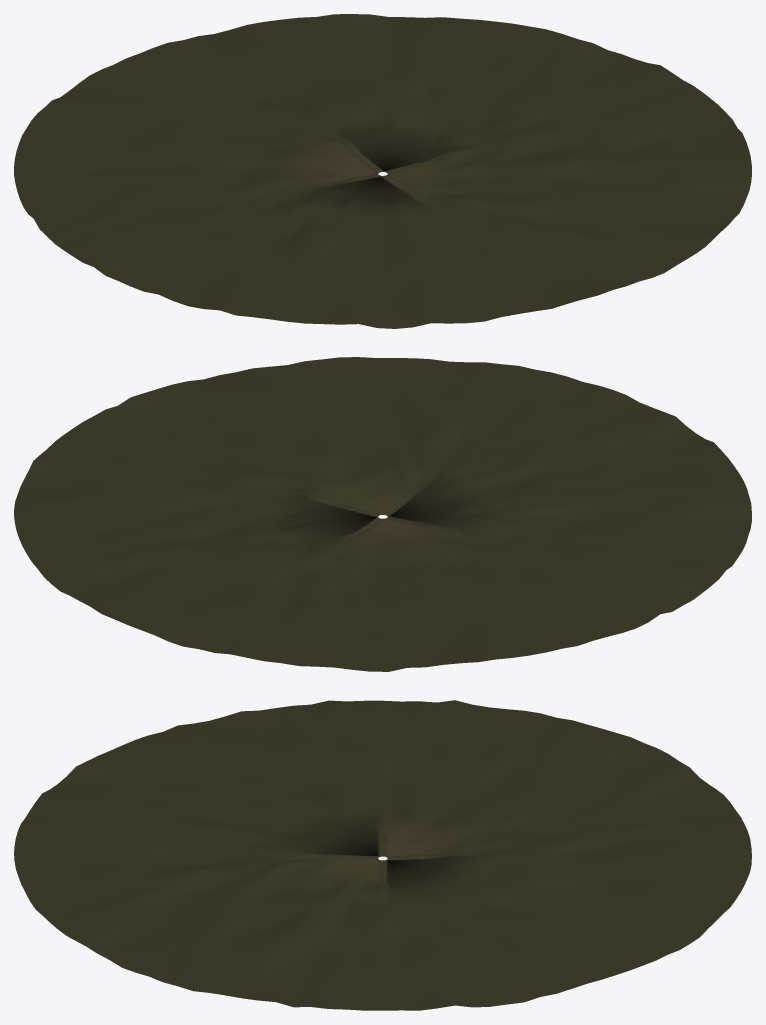
File: ksanthos-nereidler-aniti-skirt.glb
The picture shows the model from 3 angles, top to bottom: view 1: azimuth 30°, elevation 25°; view 2: azimuth 150°, elevation 25°; view 3: azimuth 270°, elevation 25°; orthographic projection.
Visible parts, largest first — view 1: ksanthos-nereidler-aniti-skirt; view 2: ksanthos-nereidler-aniti-skirt; view 3: ksanthos-nereidler-aniti-skirt.
Part boxes in pixels (bbox=[...]): ksanthos-nereidler-aniti-skirt: bbox=[14, 14, 751, 328]; ksanthos-nereidler-aniti-skirt: bbox=[14, 357, 751, 671]; ksanthos-nereidler-aniti-skirt: bbox=[14, 700, 751, 1010].
Size of the model in its own units: 8400 by 87.78 by 8400.
